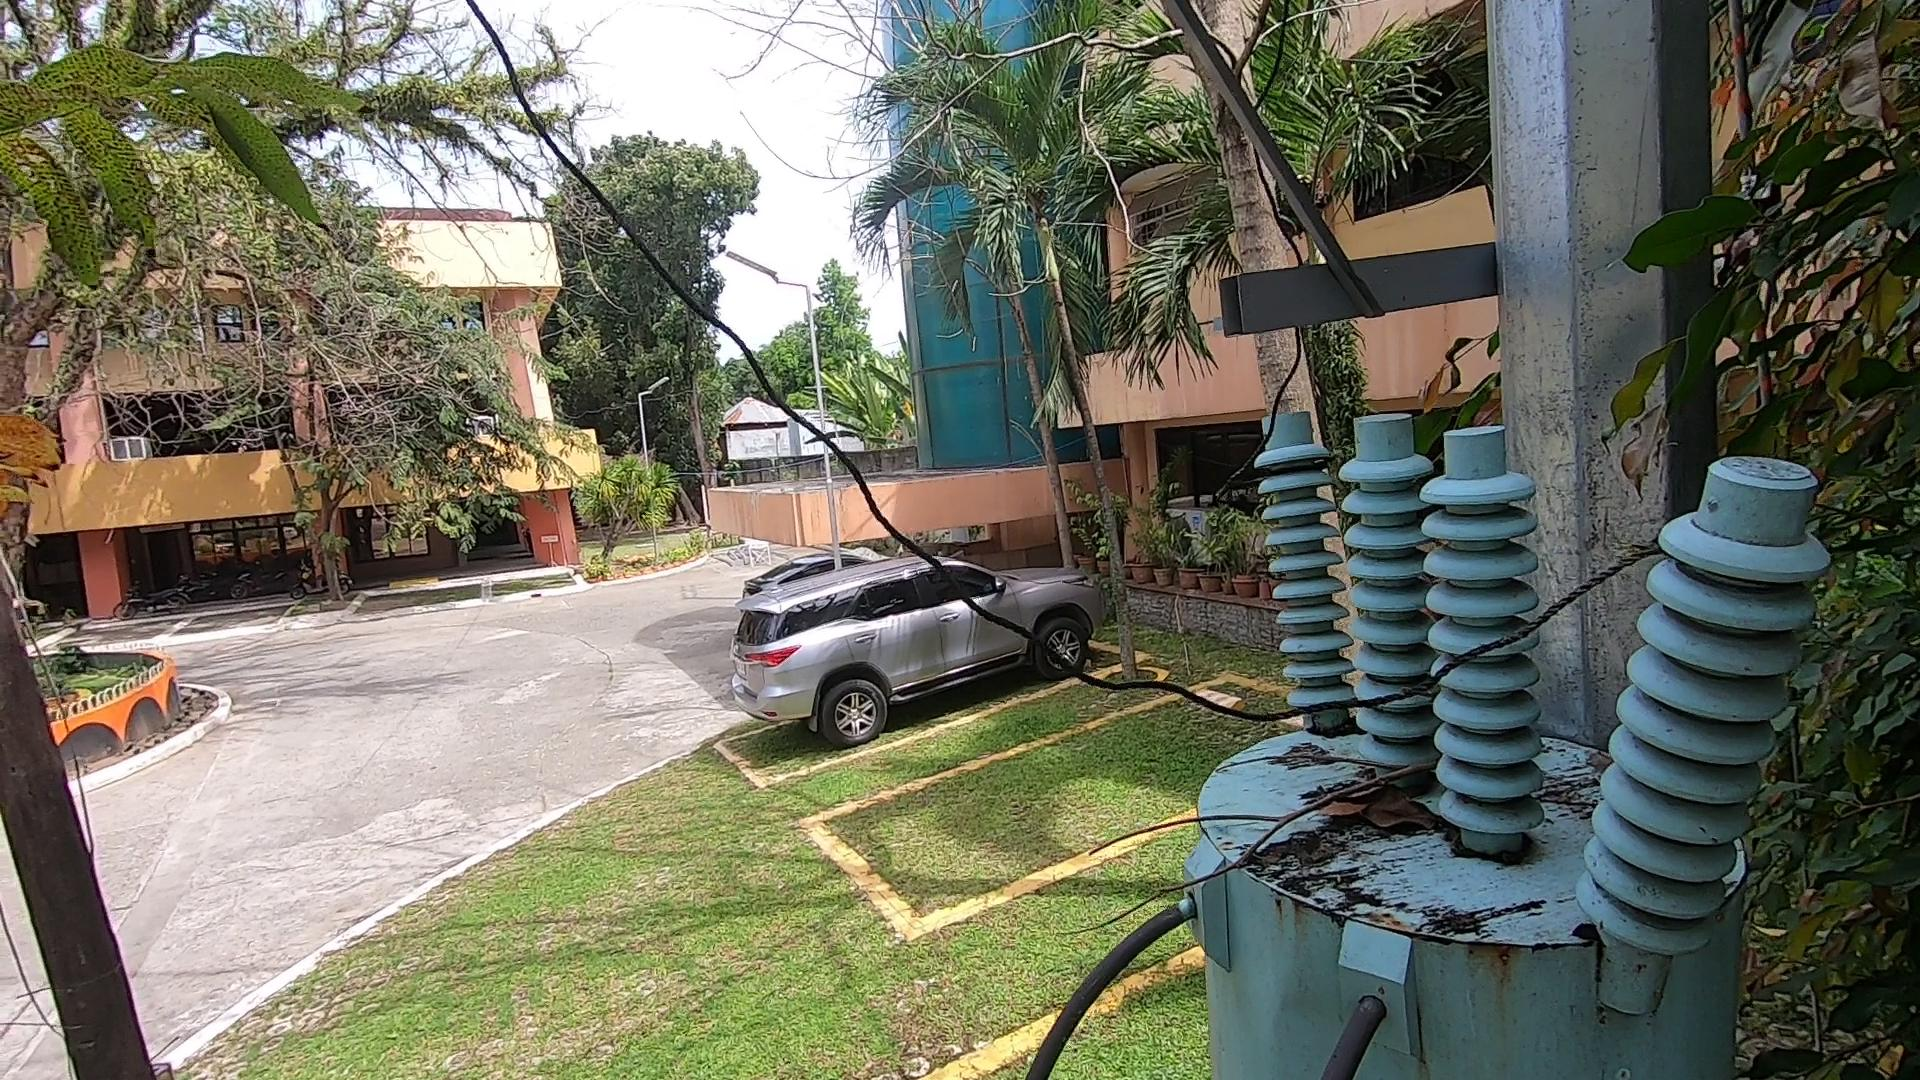leaf: (1329, 778, 1455, 835), (1288, 713, 1370, 753)
tree branch: (1033, 767, 1458, 943)
